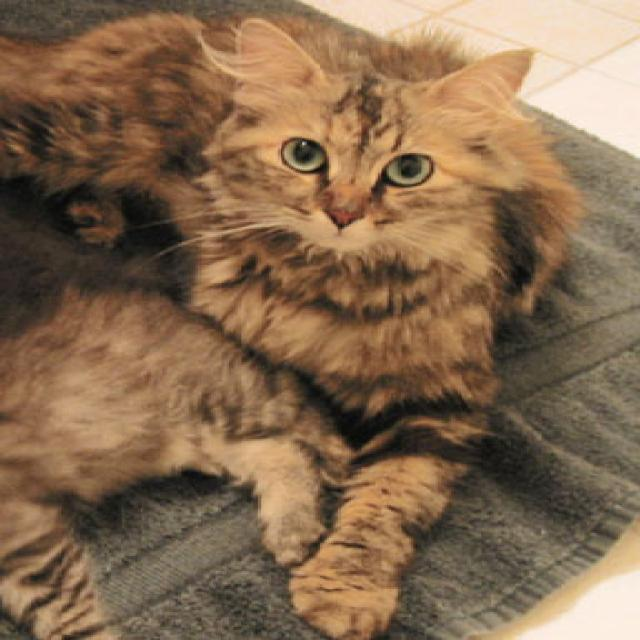Cats: (0, 9, 587, 638)
